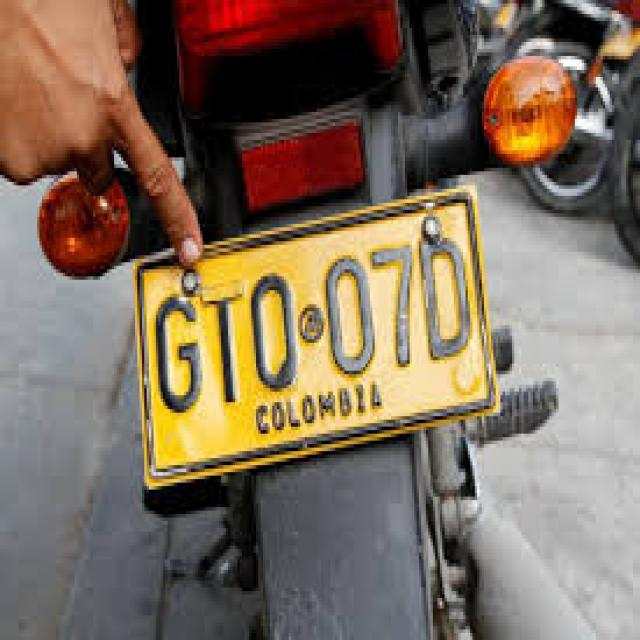number plate: (133, 185, 493, 483)
